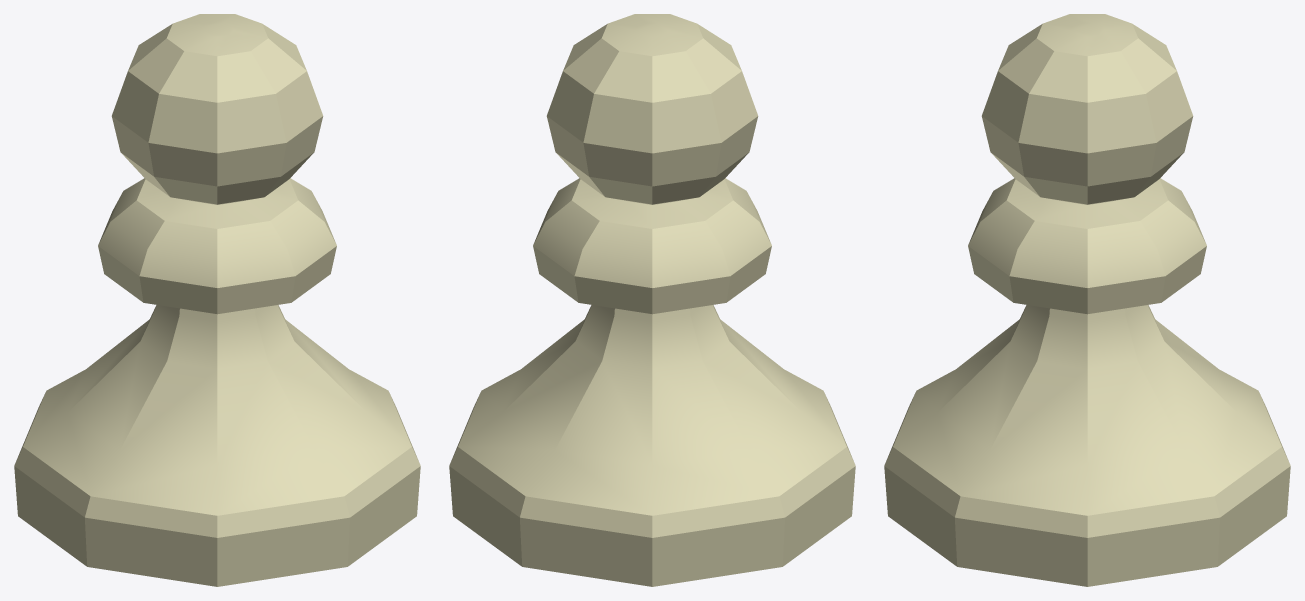
Rendered from pawn_01.glb.
3 views of the same model, side by side, from view 1: azimuth 30°, elevation 25°; view 2: azimuth 150°, elevation 25°; view 3: azimuth 270°, elevation 25° (orthographic).
Parts seen in each view (by area): view 1: pawn_01; view 2: pawn_01; view 3: pawn_01.
Part boxes in pixels (x1,y1,x2,y2): pawn_01: (14, 14, 420, 586); pawn_01: (449, 14, 855, 586); pawn_01: (884, 14, 1290, 586).
Bounding box in the file's own units: 0.3804 × 0.4942 × 0.3862.
